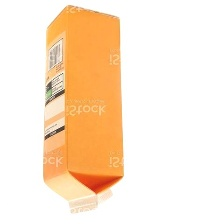carton: (39, 3, 126, 217)
